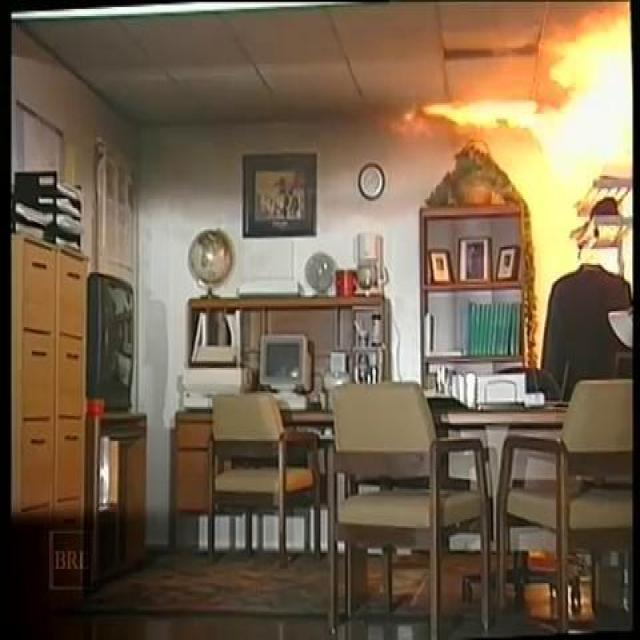fire: (422, 16, 640, 181)
